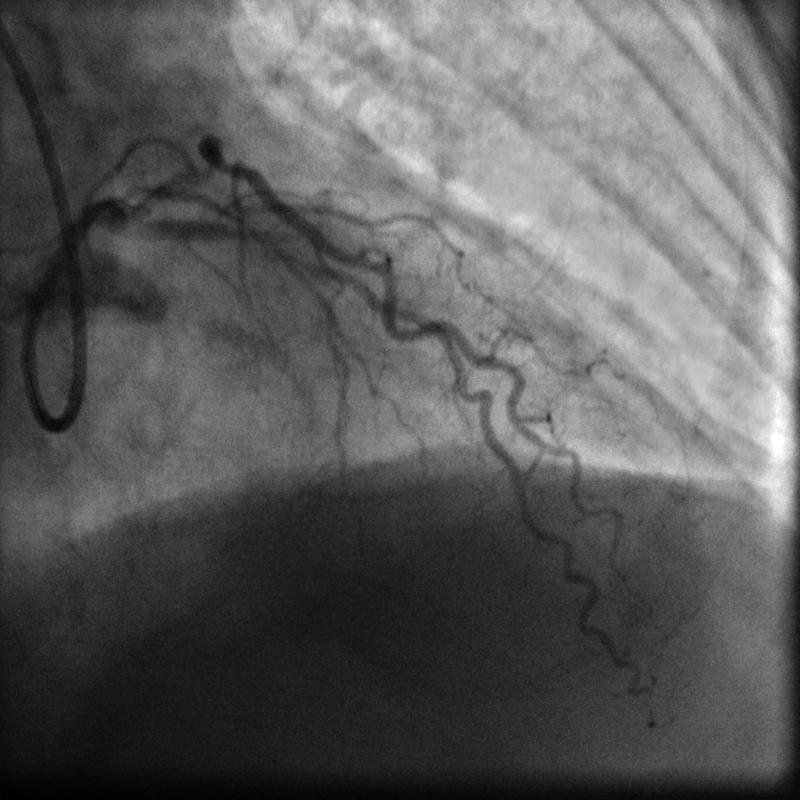Stenosis: (243, 213, 301, 255)
